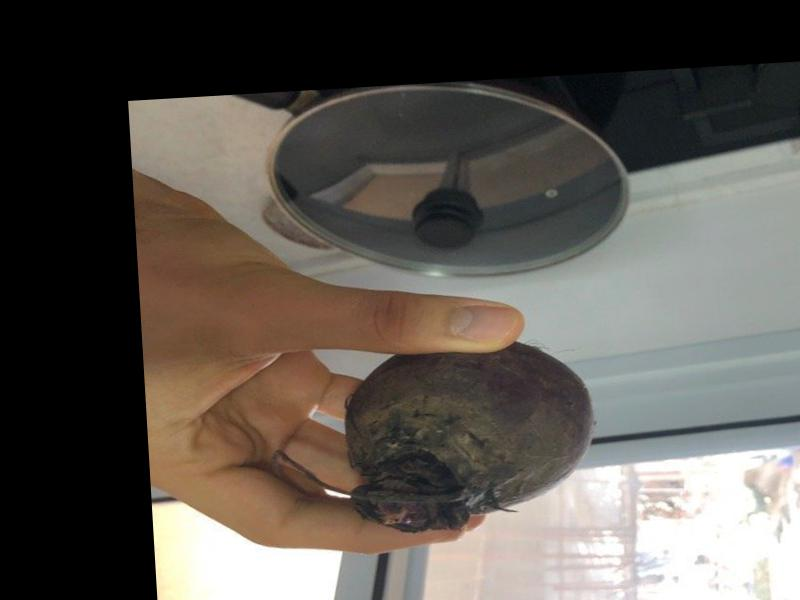Beet: (268, 335, 600, 541)
